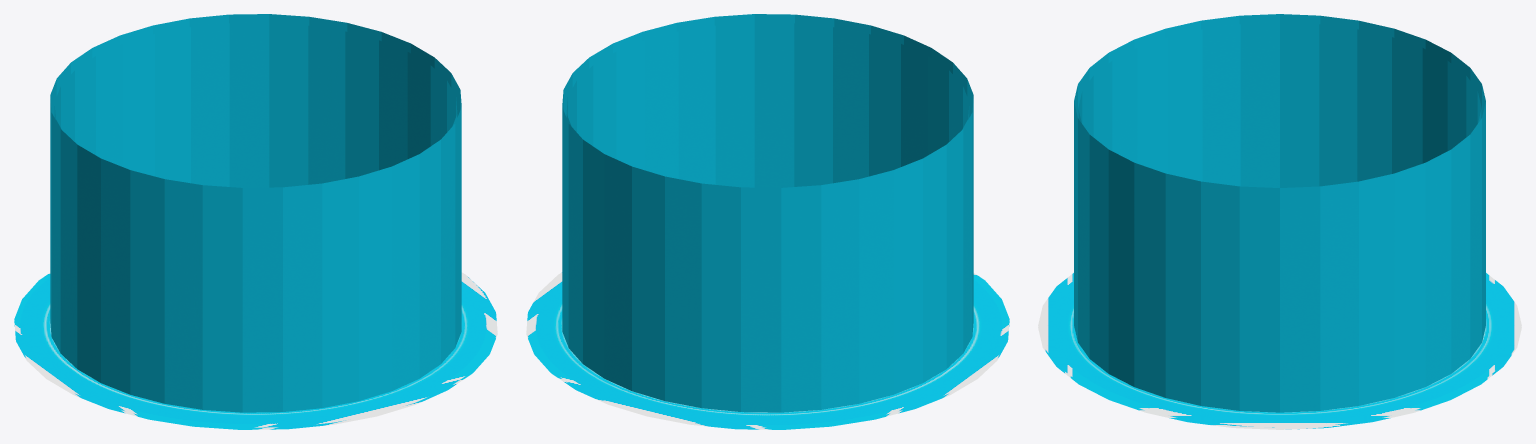
The model's file is teleport-destination.fbx.
The picture shows the model from 3 angles, left to right: view 1: azimuth 30°, elevation 25°; view 2: azimuth 150°, elevation 25°; view 3: azimuth 270°, elevation 25°; orthographic projection.
Visible parts, largest first — view 1: Cylinder; view 2: Cylinder; view 3: Cylinder.
Boxes of the visible parts, x1,y1,x2,y2 form: Cylinder: (14,14,497,429); Cylinder: (526,14,1009,429); Cylinder: (1038,14,1521,429).
Size of the model in its own units: 154 by 81.61 by 154.
1 material, 1 textured.
